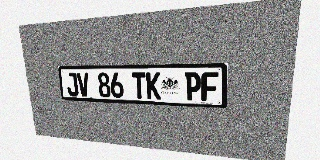6: (110, 72, 124, 98)
8: (97, 72, 111, 97)
F: (201, 72, 219, 102)
J: (66, 73, 79, 96)
K: (146, 72, 161, 99)
P: (185, 72, 201, 101)
T: (132, 72, 146, 99)
V: (77, 73, 90, 97)
